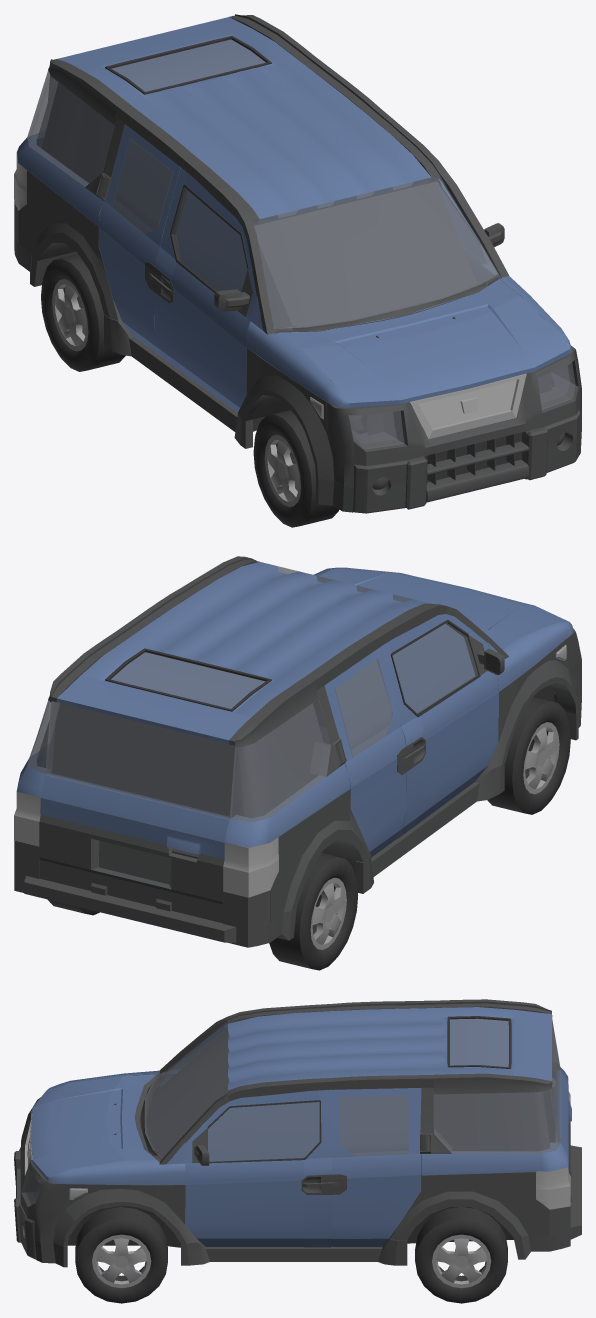
The model's file is Car.fbx.
3 views of the same model, one above another, from view 1: azimuth 30°, elevation 25°; view 2: azimuth 150°, elevation 25°; view 3: azimuth 270°, elevation 25° (orthographic). The views are drawn at different scales.
Visible parts, largest first — view 1: FrontCornerBumper_DS; view 2: FrontCornerBumper_DS; view 3: FrontCornerBumper_DS.
Part boxes in pixels (x1=…): FrontCornerBumper_DS: x1=14, y1=14, x2=581, y2=527; FrontCornerBumper_DS: x1=14, y1=556, x2=581, y2=970; FrontCornerBumper_DS: x1=14, y1=999, x2=581, y2=1303.
Size of the model in its own units: 243 by 218 by 523.
